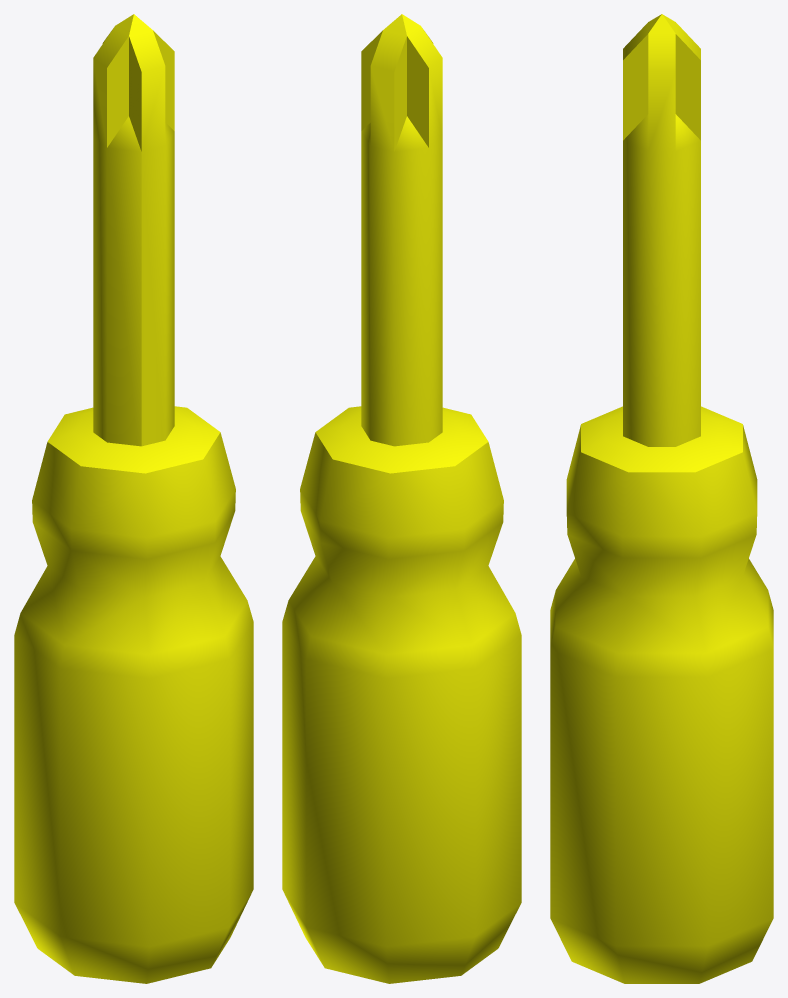
The model's file is kaykit-screwdriver-b-short-color.glb.
3 renders of one model, left to right at view 1: azimuth 30°, elevation 25°; view 2: azimuth 150°, elevation 25°; view 3: azimuth 270°, elevation 25°, orthographic.
Visible parts, largest first — view 1: screwdriver_B_short_color; view 2: screwdriver_B_short_color; view 3: screwdriver_B_short_color.
Part boxes in pixels (x1,y1,x2,y2): screwdriver_B_short_color: (14, 14, 253, 983); screwdriver_B_short_color: (282, 14, 521, 983); screwdriver_B_short_color: (550, 14, 773, 983).
Bounding box in the file's own units: 0.1513 × 0.7136 × 0.1513.
